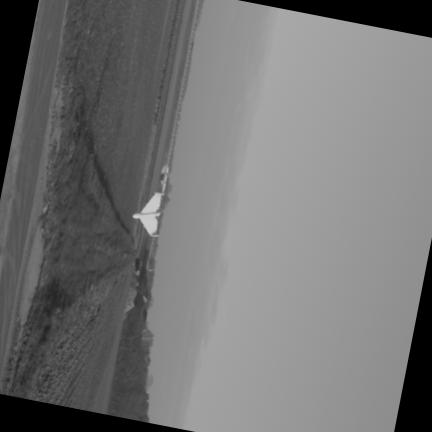Shahed: (132, 192, 163, 236)
